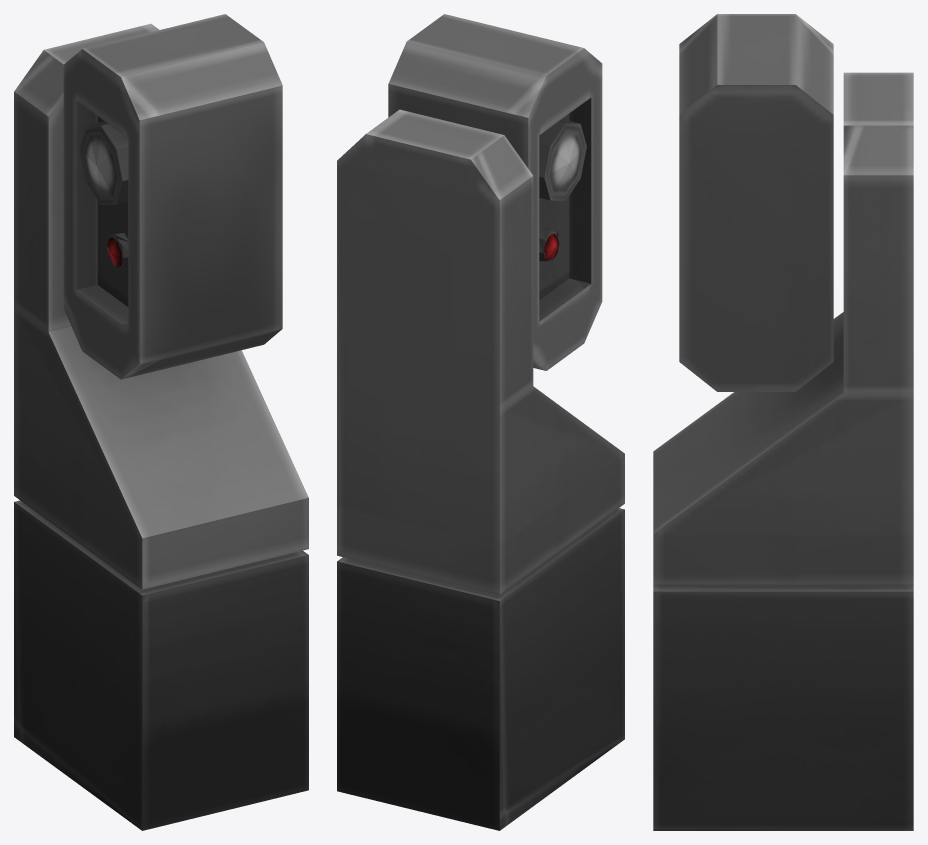
File: TAG turret.FBX
The picture shows the model from 3 angles, left to right: view 1: azimuth 30°, elevation 25°; view 2: azimuth 150°, elevation 25°; view 3: azimuth 270°, elevation 25°; orthographic projection. The views are drawn at different scales.
Visible parts, largest first — view 1: tagstand_2, mantlet_2, turret_003; view 2: turret_003, tagstand_2, mantlet_2; view 3: turret_003, tagstand_2, mantlet_2.
Boxes of the visible parts, box(x1,y1,x2,y2) form: tagstand_2: box(14, 500, 308, 830); mantlet_2: box(63, 14, 282, 379); turret_003: box(14, 23, 308, 589); turret_003: box(337, 109, 624, 595); tagstand_2: box(337, 508, 624, 830); mantlet_2: box(388, 14, 602, 370); turret_003: box(653, 72, 913, 585); tagstand_2: box(653, 586, 913, 830); mantlet_2: box(679, 14, 833, 391).
Bounding box in the file's own units: 1.38 × 1.84 × 5.77.
Materials: 1 (1 with a texture image).
